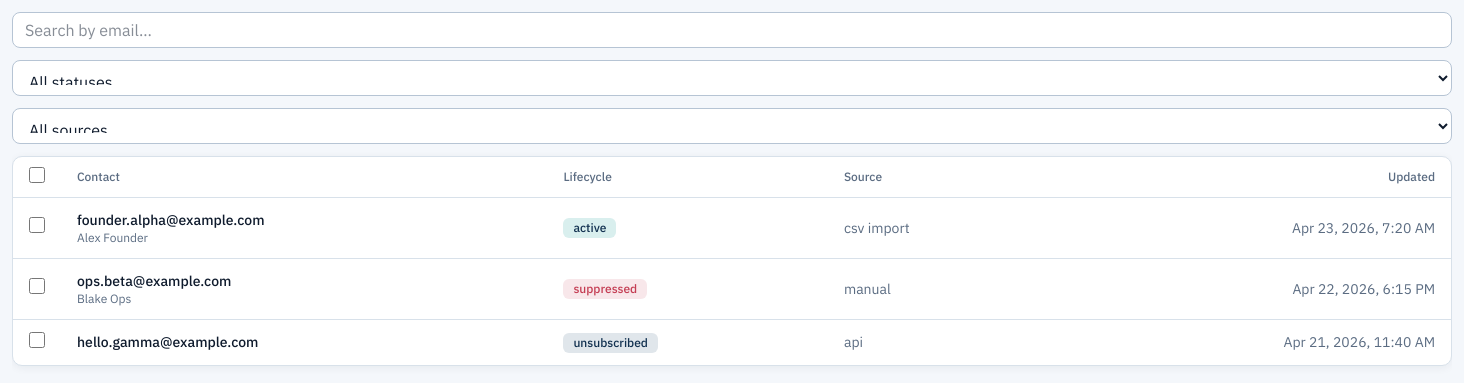
Test: ContactsTable › shows empty state when filter matches nothing
This screenshot has width=1464, height=383.
In the search field named "search contacts": (732, 30) [12,12,1452,48], type "zzz-no-match-xyz"
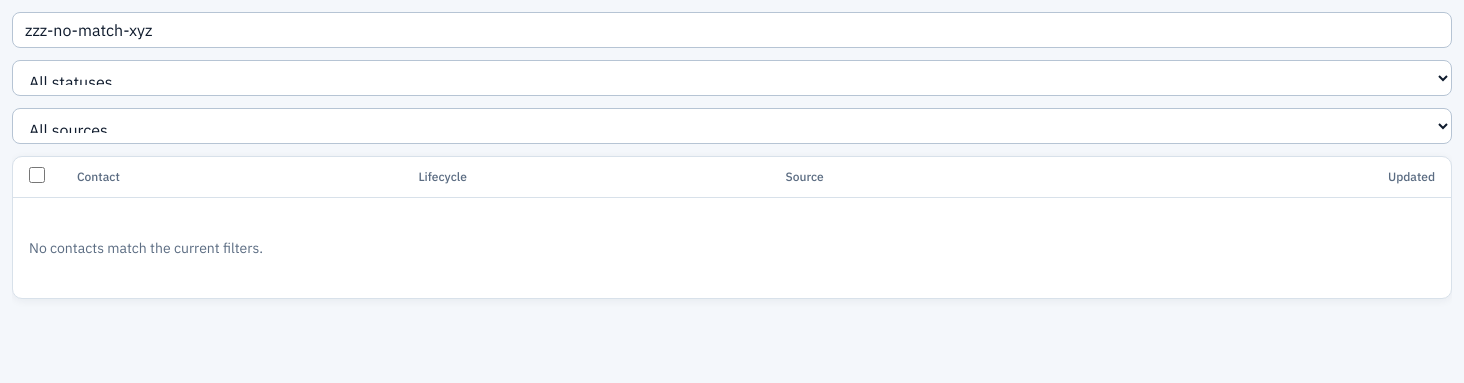
Expected: the text "No contacts match the current filters." is shown, [13,197,1451,298]
